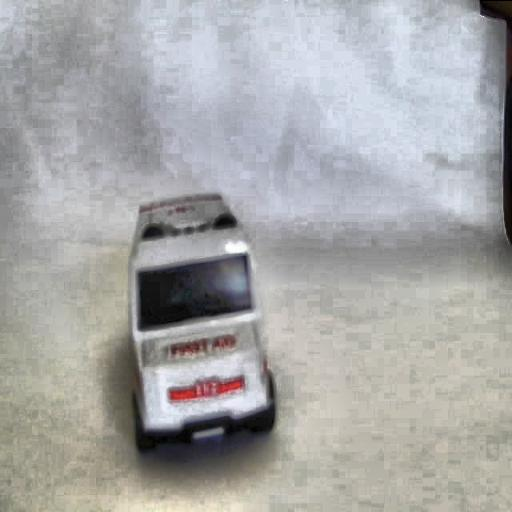ambulance: (127, 191, 276, 452)
